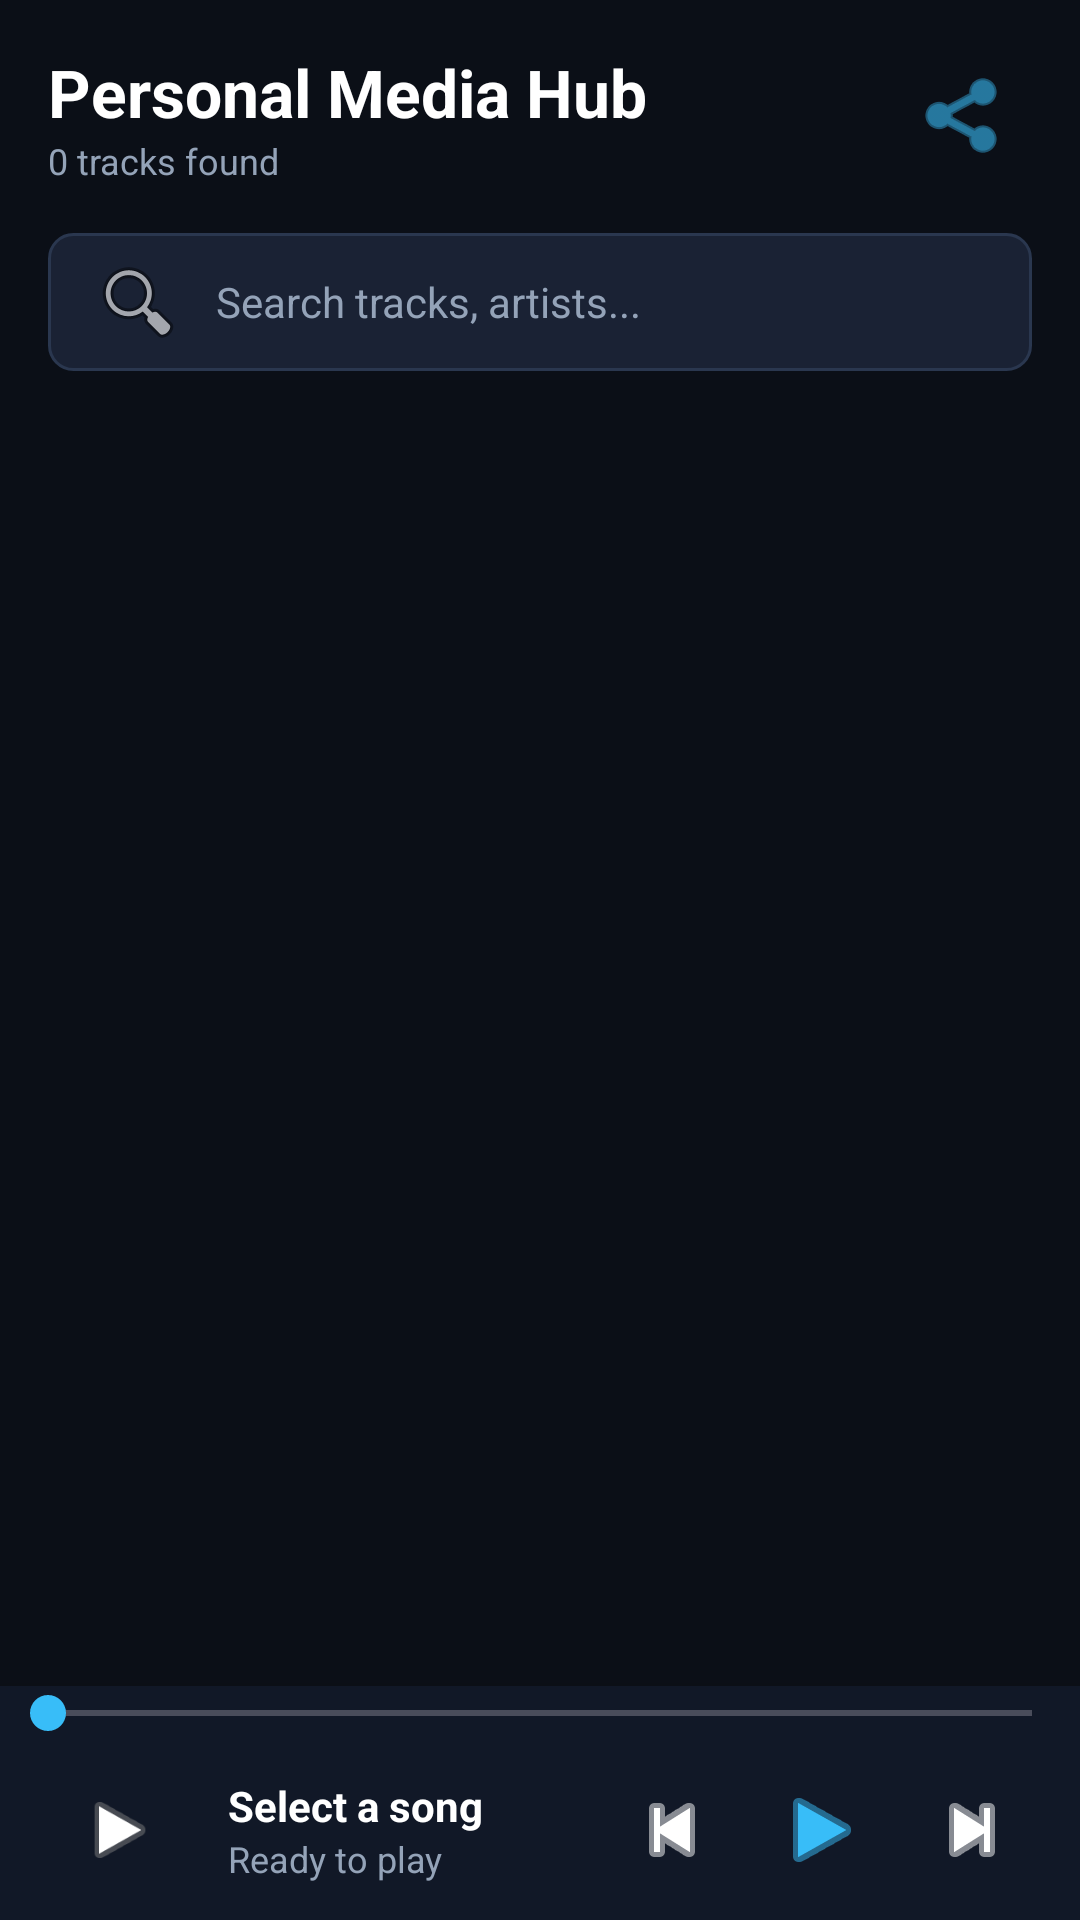

Named icons in this screenshot (1080*1920) and their bounding boxes, (x1, y1, x2, y2):
next: (949, 1803, 995, 1857)
previous: (649, 1803, 695, 1857)
